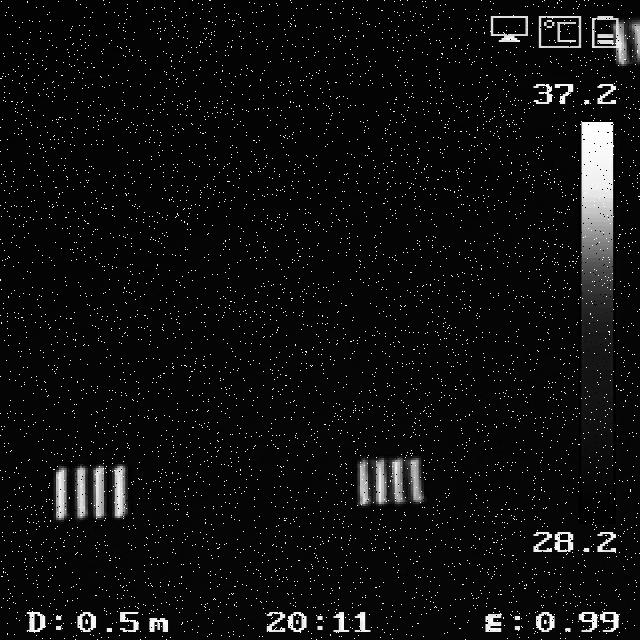Distinguishable 4-bar target: (52, 470, 127, 521), (354, 459, 426, 504)
